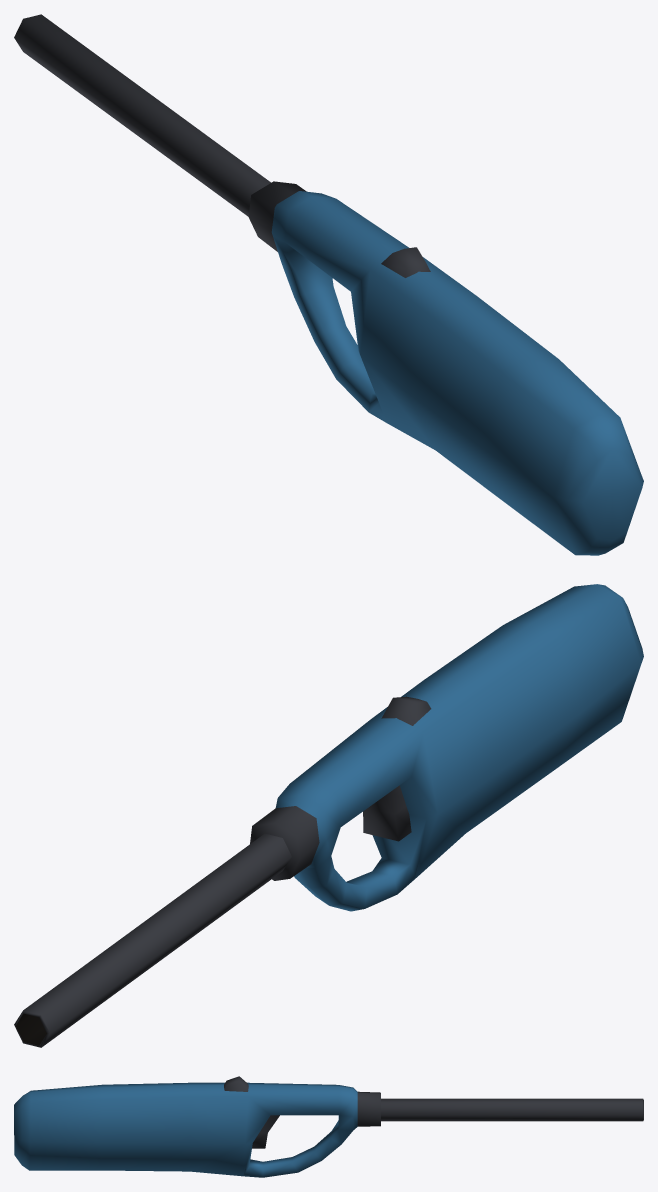
The model's file is Lighter_Candle_1.FBX.
3 renders of one model, top to bottom at view 1: azimuth 30°, elevation 25°; view 2: azimuth 150°, elevation 25°; view 3: azimuth 270°, elevation 25°, orthographic. The views are drawn at different scales.
Parts seen in each view (by area): view 1: Lighter_Candle; view 2: Lighter_Candle; view 3: Lighter_Candle.
Part boxes in pixels (box(x1,y1,x2,y2)): Lighter_Candle: box(14, 14, 643, 555); Lighter_Candle: box(14, 584, 643, 1047); Lighter_Candle: box(14, 1076, 643, 1177).
Bounding box in the file's own units: 4.42 × 7.92 × 45.89.
Materials: 1 (1 with a texture image).
